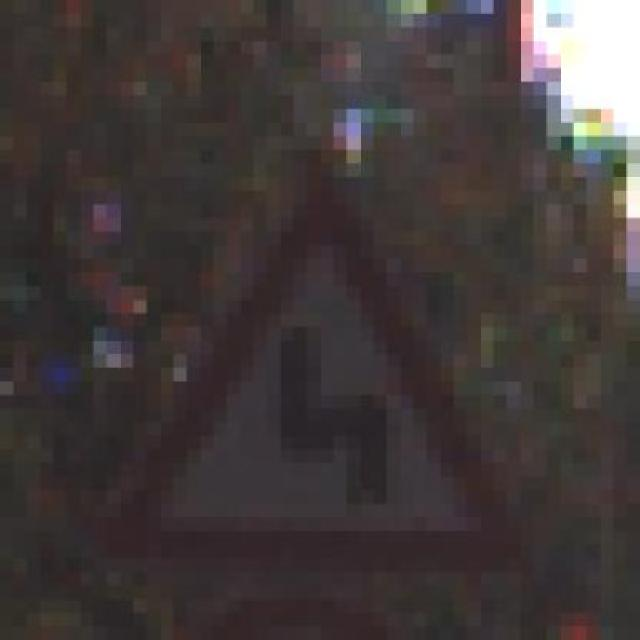Left Zig Zag Traffic: (66, 123, 534, 572)
